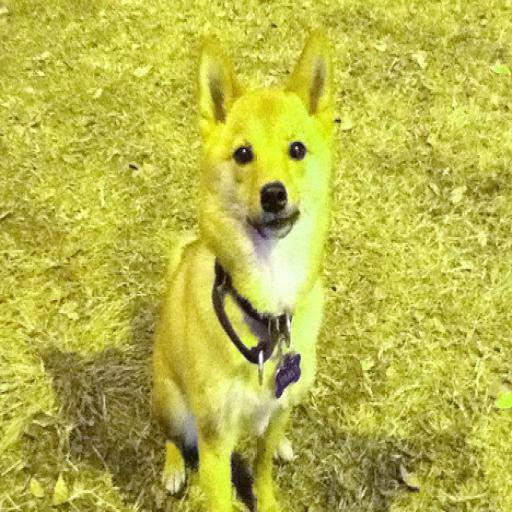dog_face: (195, 34, 326, 250)
